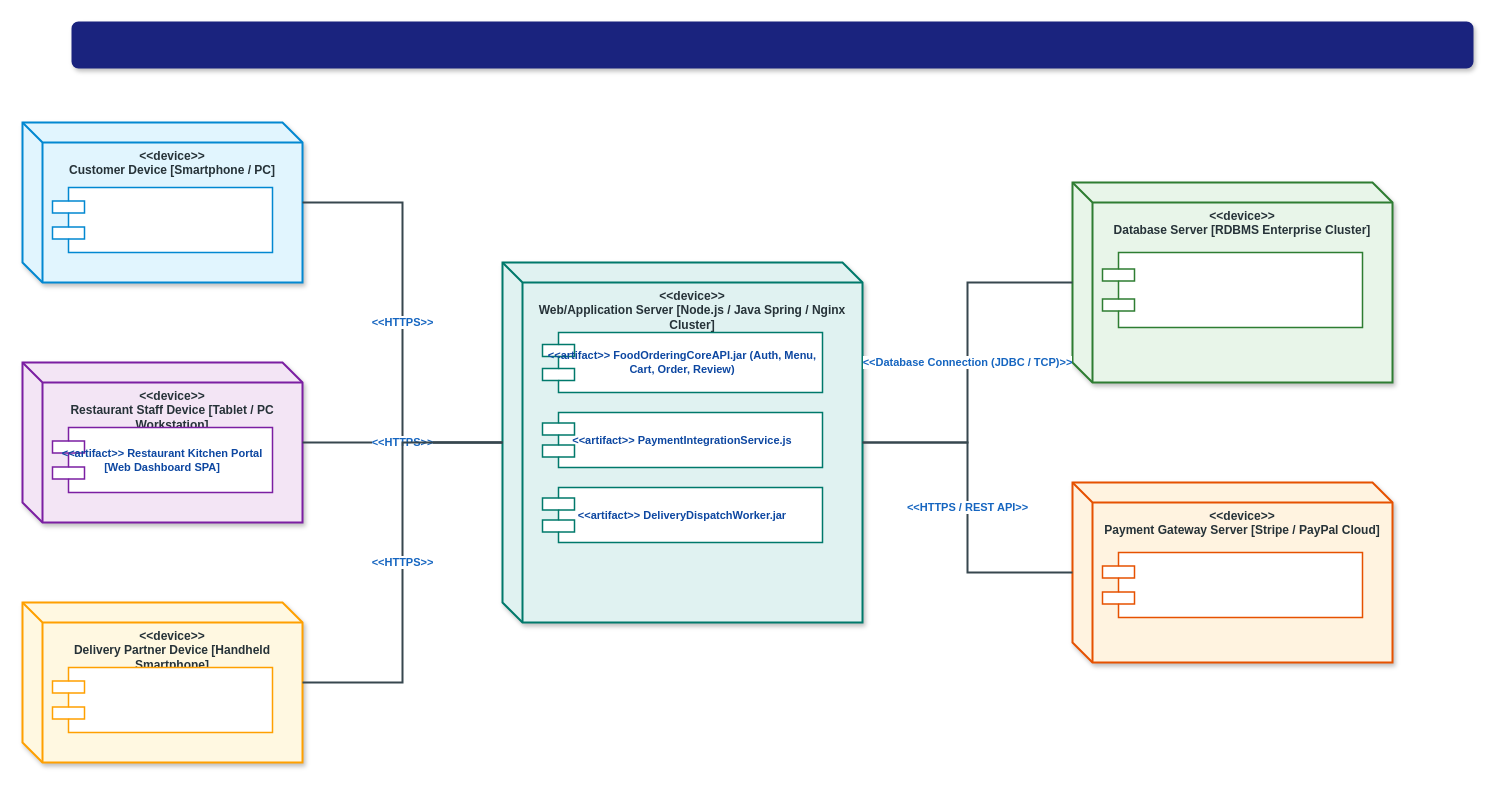
The diagram is 1496 pixels wide and 787 high, and some of its shapes have lost their labels. The shapes that lost their labels are listed below. From the top down, each one's centre as x and y in pixels, then its label:
[773,46]: ONLINE FOOD ORDERING SYSTEM — UML DEPLOYMENT DIAGRAM
[162,219]: <<artifact>> Customer Web / Mobile App [React.js / Android App]
[1232,289]: <<artifact>> FoodOrderingDB.sql [Tables: Users, Orders, Menu, Delivery]
[1232,584]: <<artifact>> PCI-DSS Payment Gateway API [RESTful SSL Endpoint]
[162,699]: <<artifact>> Delivery Mobile App [Flutter / React Native]
